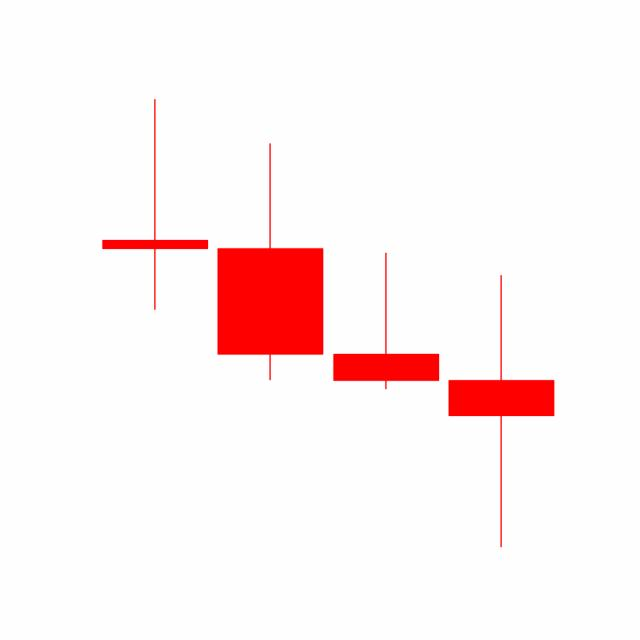Spinning Top: (443, 272, 559, 550)
